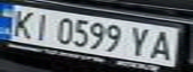0: (51, 15, 75, 46)
5: (69, 17, 90, 48)
9: (103, 21, 127, 54), (87, 19, 109, 52)
A: (145, 28, 181, 61)
I: (27, 10, 57, 42)
K: (3, 7, 39, 38)
Y: (124, 25, 157, 57)
